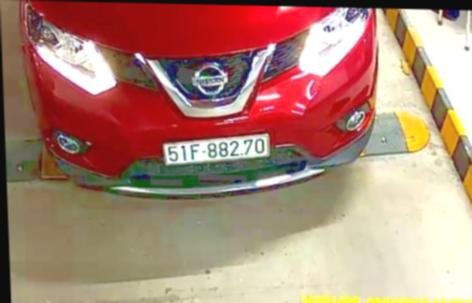License_Plate: (159, 130, 275, 167)
